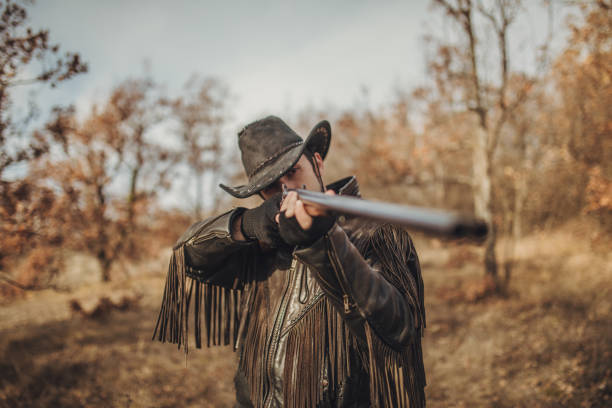gun: (282, 185, 490, 243)
